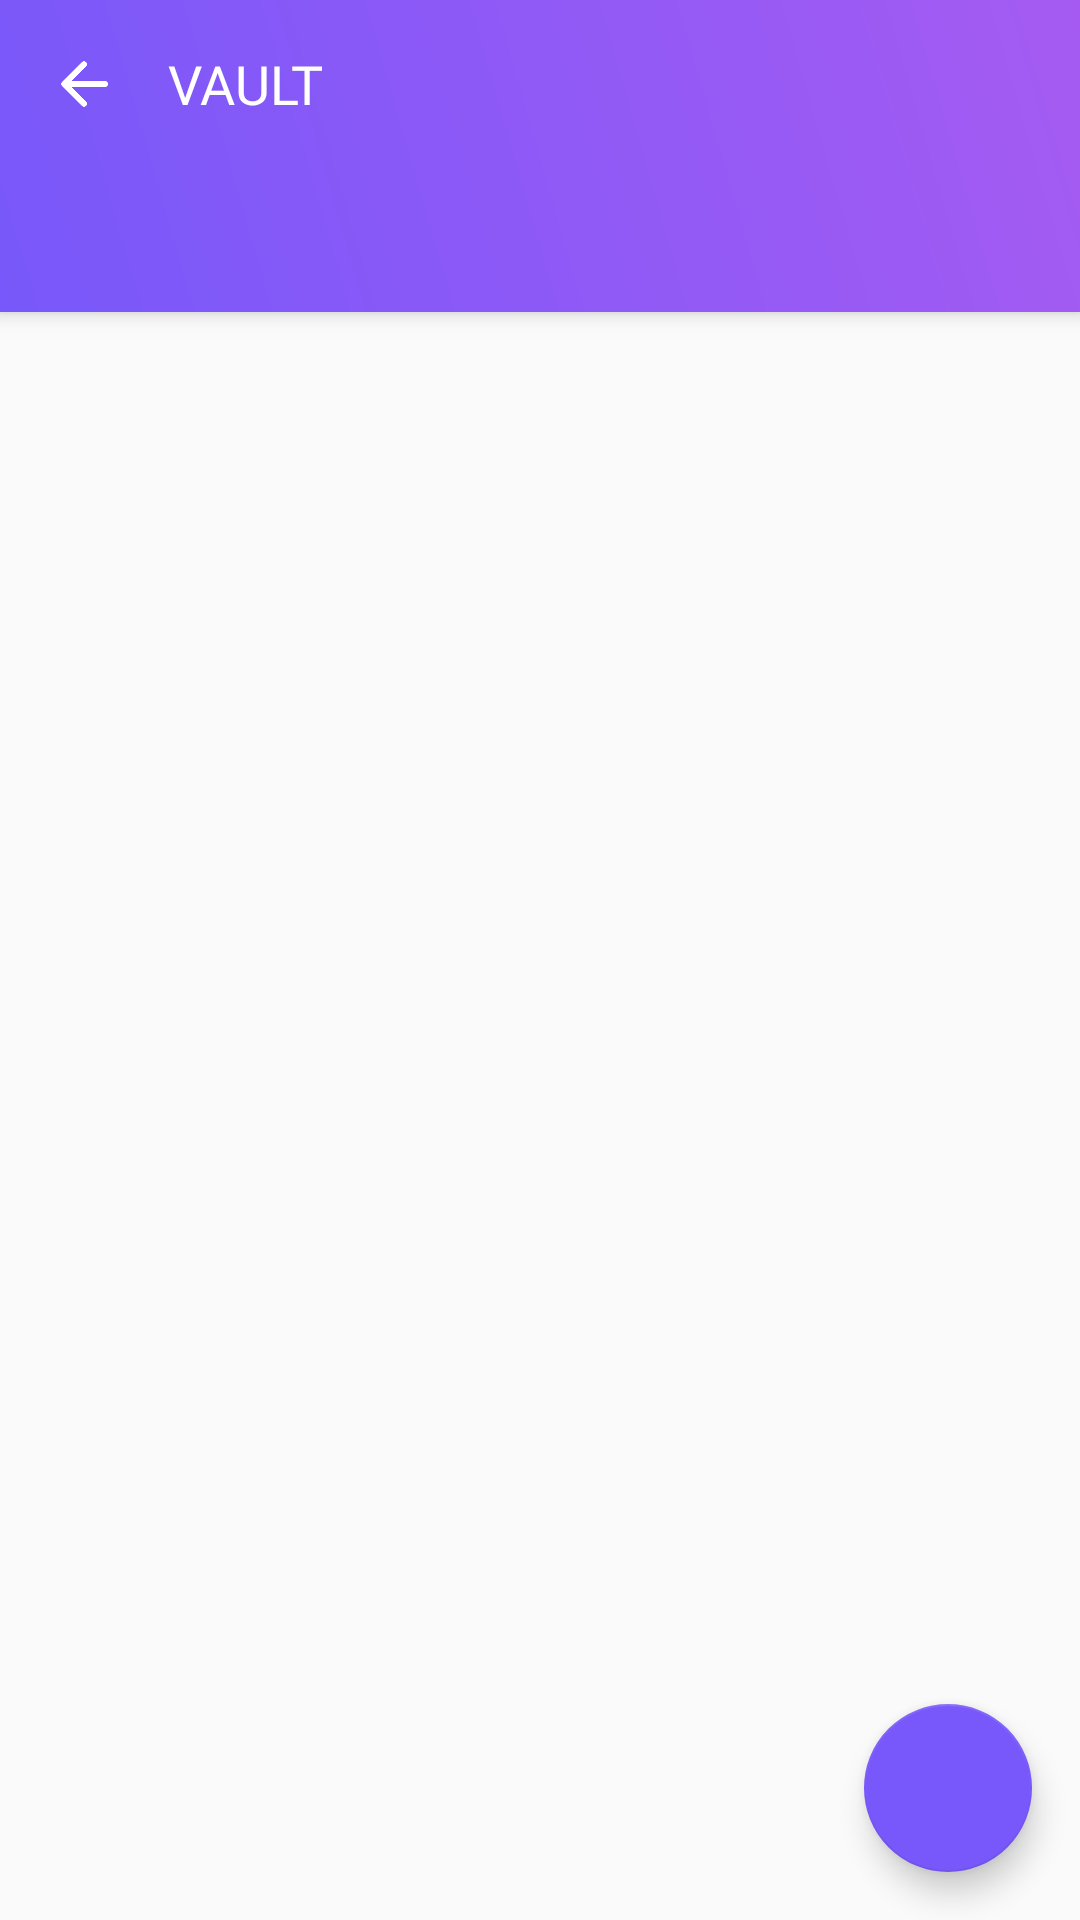

Point at icon controls on the screen. Image size 1080 x 1920, points as (x,y).
arrow back: (84,84)
